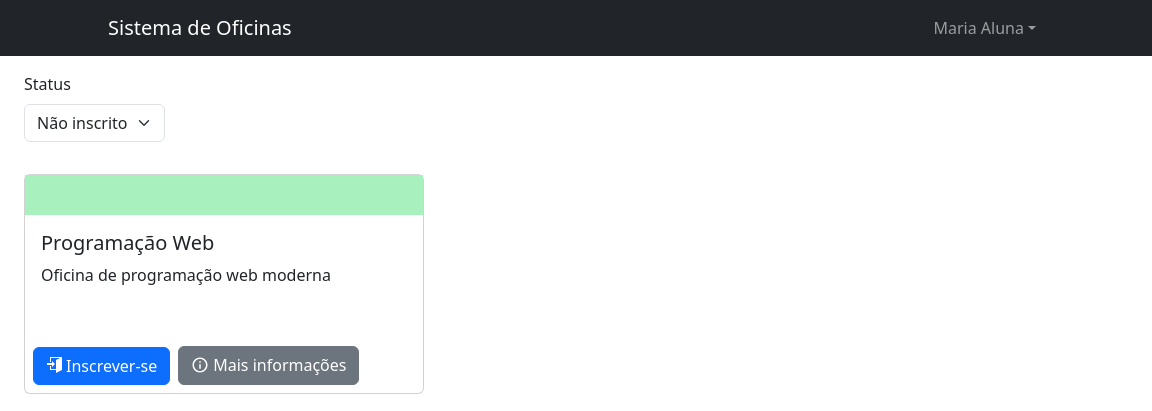
Test: Matrículas (Aluno) › Listagem de oficinas › exibe alerta quando o aluno não possui inscrições
Select "Inscritos" in the dropdown at (95, 123), box 24,104 -> 165,142
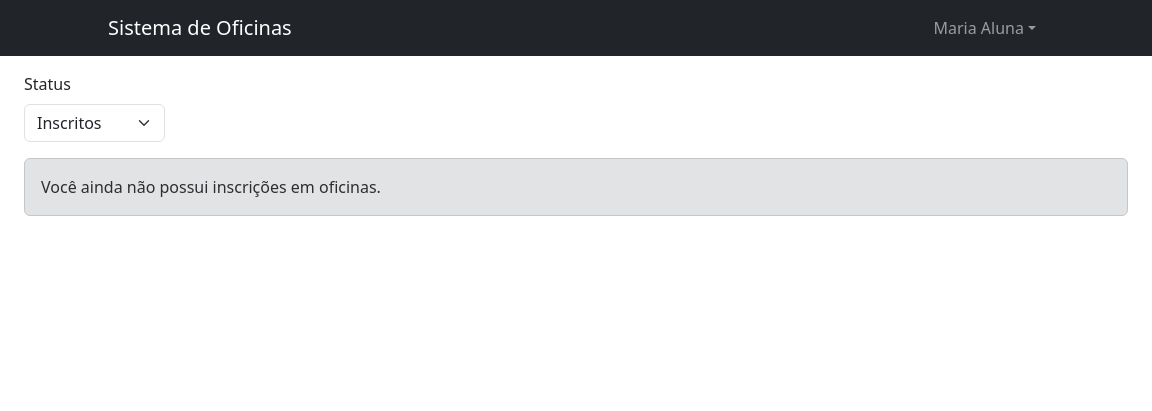
Result: the text "Você ainda não possui inscrições em oficinas." is shown at 24,158 -> 1128,216
